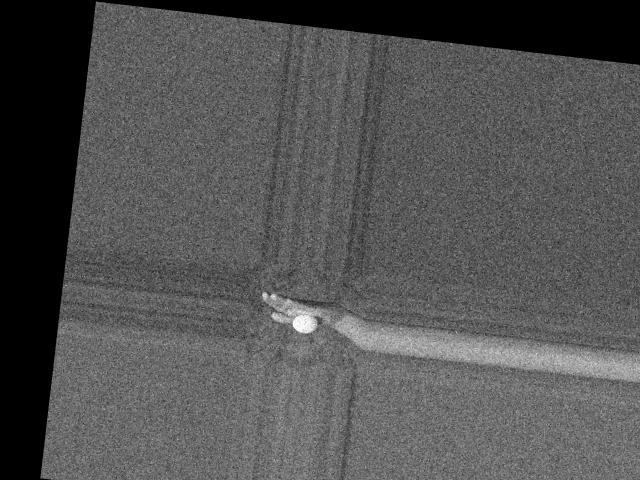egg: (292, 312, 319, 334)
